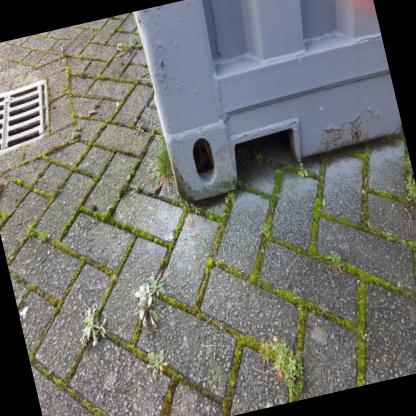CornerCasting: (156, 112, 248, 214)
